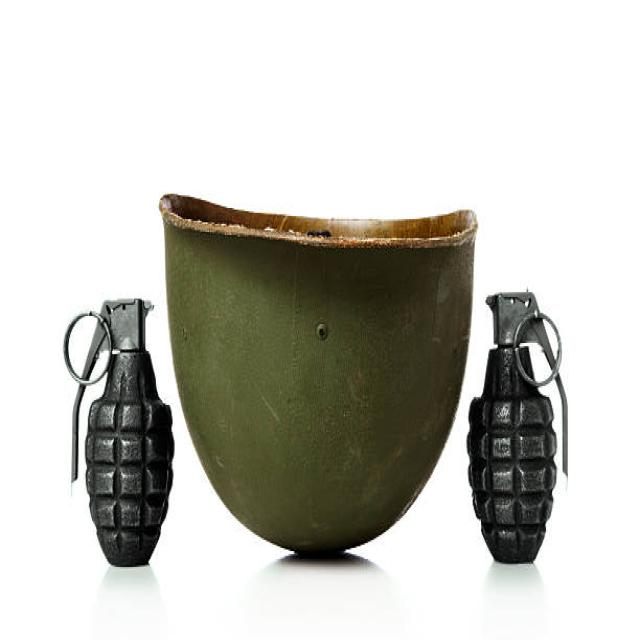grenade: (63, 288, 180, 580), (465, 284, 577, 575)
